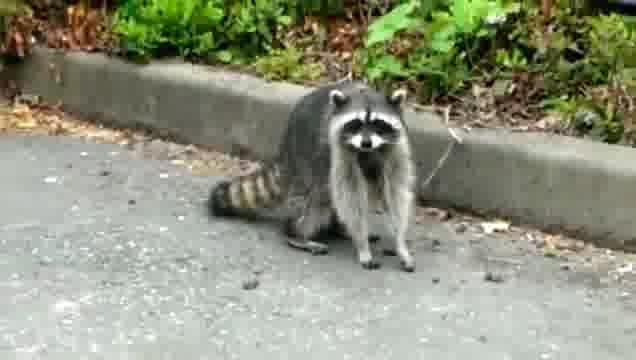raccoon: (212, 84, 416, 271)
